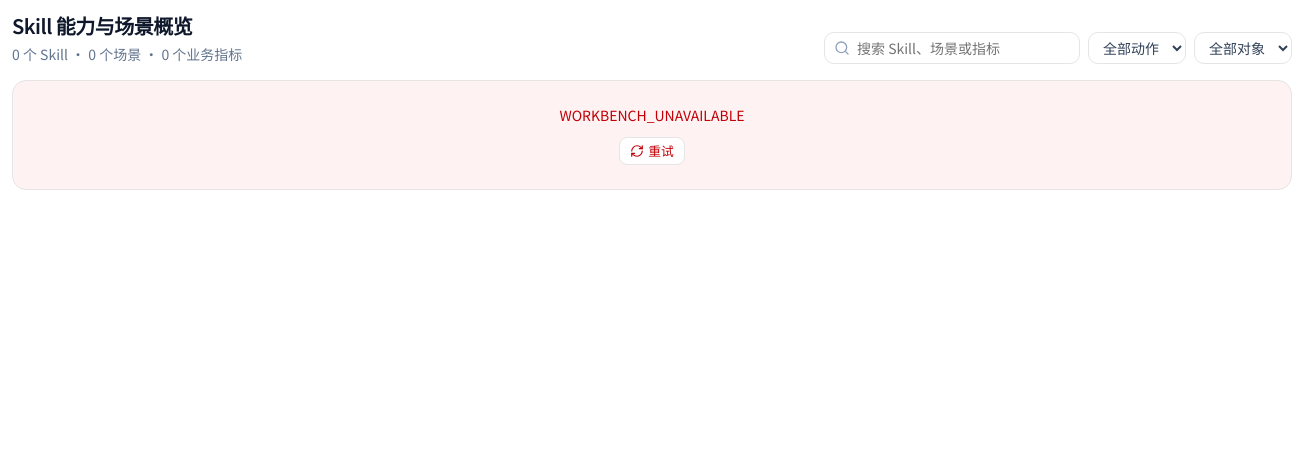
Test: Skill capability overview › shows a retryable error without losing the overview shell
The width and height of the screenshot is (1304, 462).
Check: the message shows "WORKBENCH_UNAVAILABLE", box [560, 105, 745, 125]
Click the button "重试" at [652, 151], box [619, 137, 685, 165]
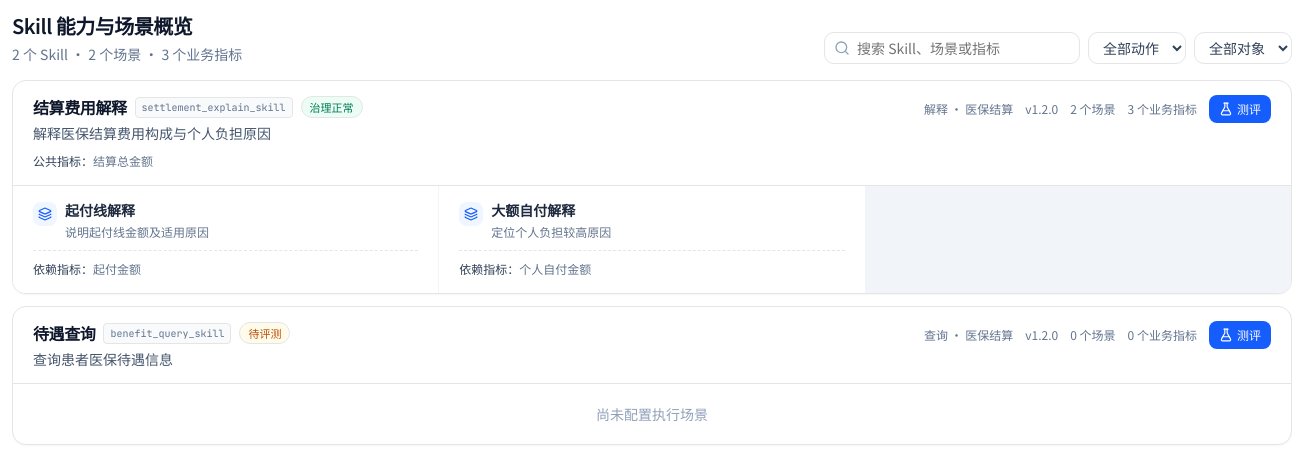
Check: the element with test id "skill-overview-settlement_explain_skill" is shown, box [12, 80, 1292, 294]
